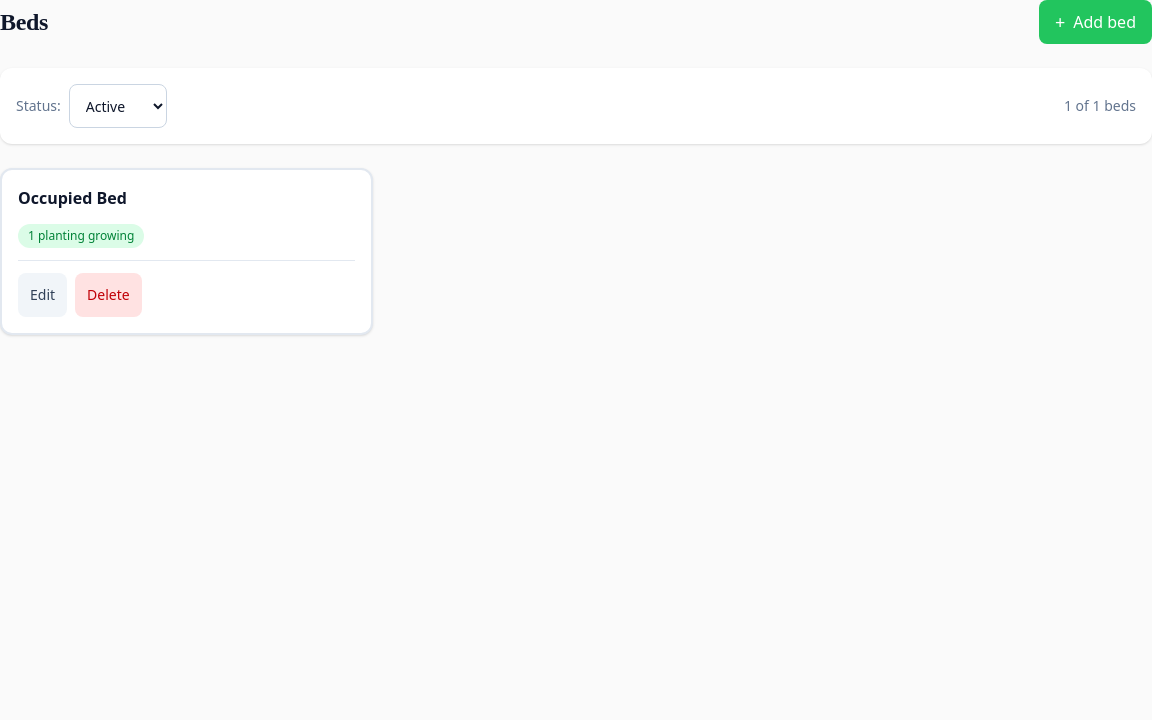
Test case: BedList › deleting a bed that has a planting in it shows the refusal, and the bed survives
This screenshot has width=1152, height=720.
Expected: the text "Occupied Bed" is shown, [18,186,127,210]
Click the button "Delete": (108, 295) [75,273,142,317]
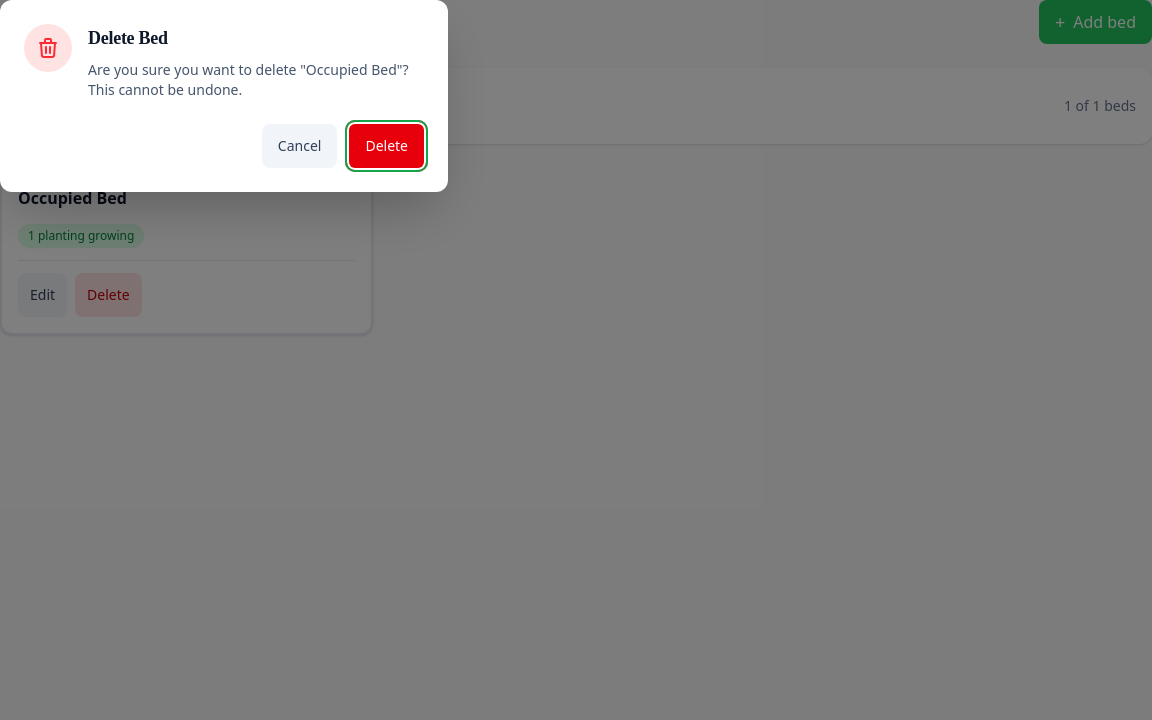
Click the button "Delete": (387, 146) [349,124,424,168]
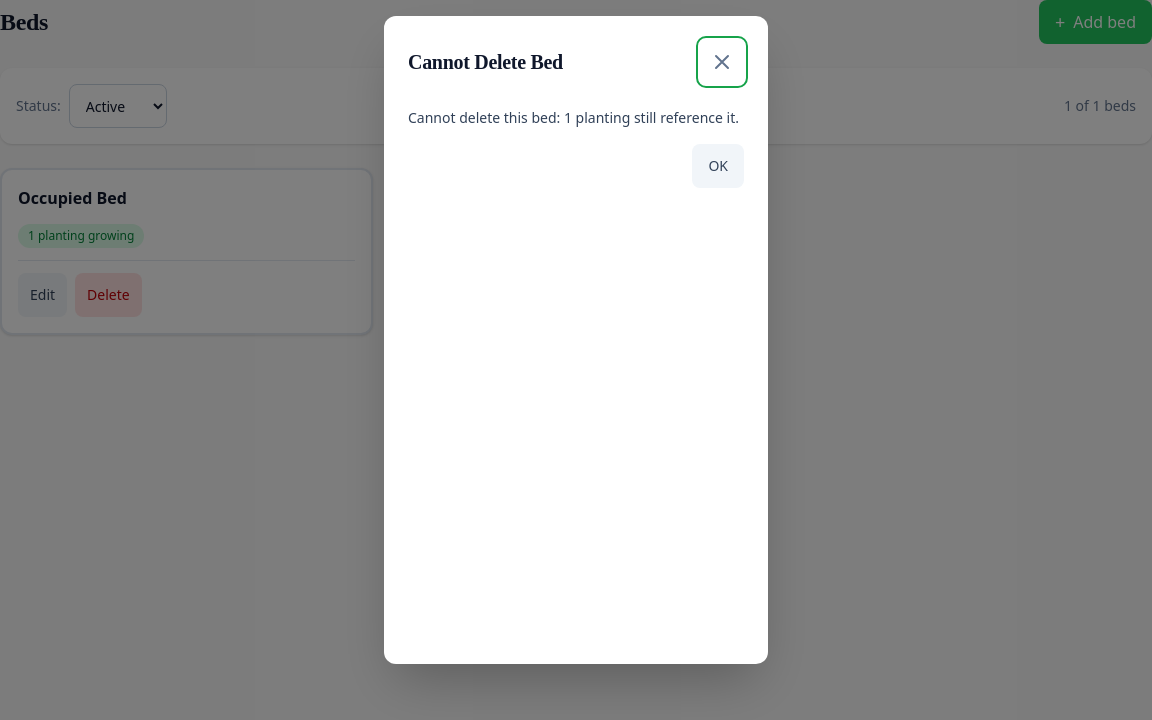
Expected: the text "Occupied Bed" is shown, [18,186,127,210]
Expected: the text "Cannot delete this bed: 1 planting still reference it." is shown, [408,108,744,128]
